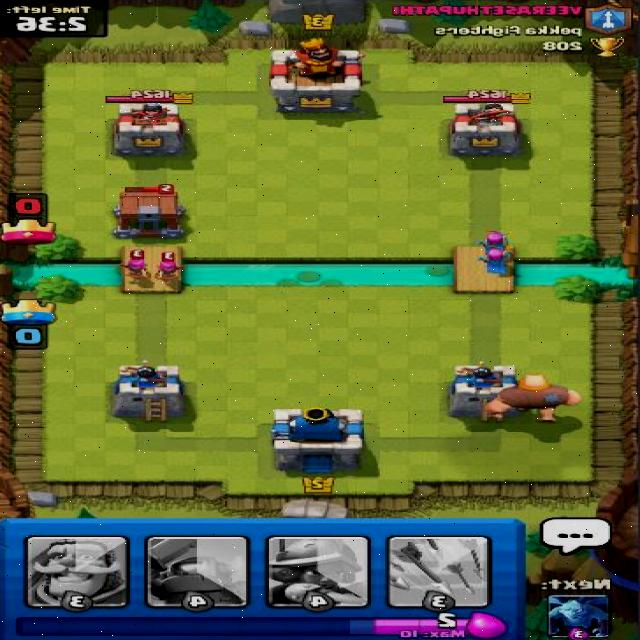Enemy-Archer: (118, 249, 155, 282), (150, 251, 187, 284)
Enemy-GoblinCage: (109, 182, 190, 241)
Player-Archer: (476, 245, 518, 277), (475, 228, 515, 257)
Player-Giant: (480, 373, 582, 425)
